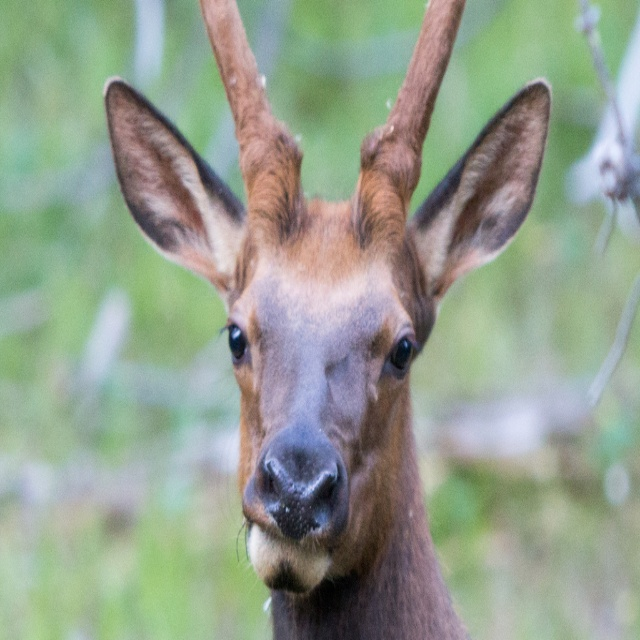Deer: (104, 0, 552, 628)
